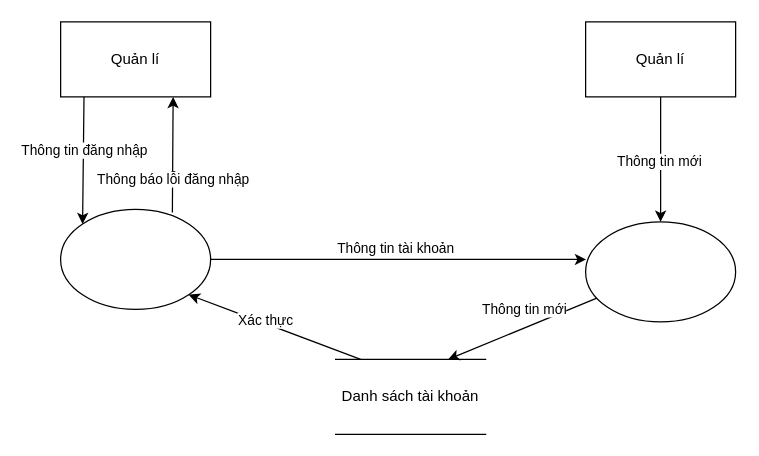
Image size: 759x456. Some labels were removed from this diagram. The centre of each missing label's shape, as x and y in pixels:
Chỉnh sửa thông tin tài khoản: the point at 660,271
Đăng nhập: the point at 135,258
